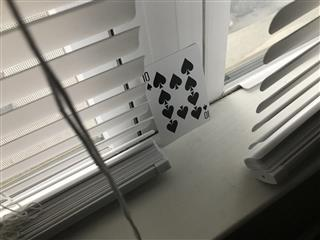TenOfSpades: (138, 41, 211, 145)
